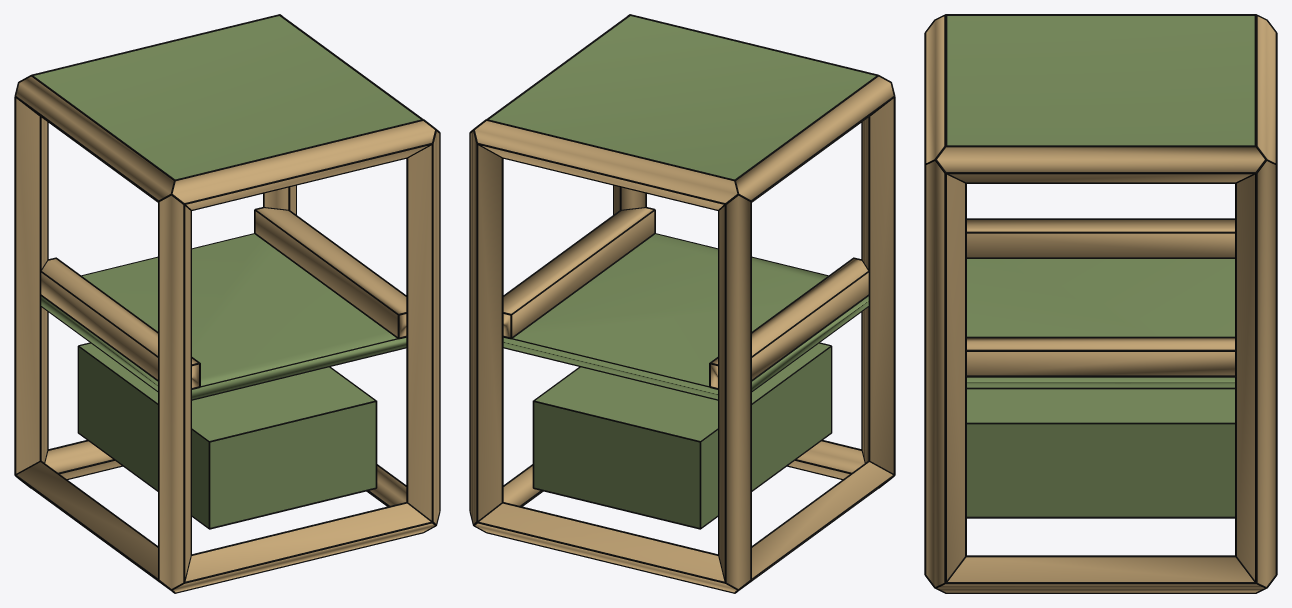
File: 002-table-chevet-moyenne.glb
3 renders of one model, left to right at view 1: azimuth 30°, elevation 25°; view 2: azimuth 150°, elevation 25°; view 3: azimuth 270°, elevation 25°, orthographic. The views are drawn at different scales.
Parts seen in each view (by area): view 1: panneau-dessus_exterieur, mod-drawer-0, tablette-plate-mod-0, arete-Z0, arete-Z1, arete-Z2, arete-X2, arete-X0, tablette-traverse-right-mod-0, tablette-traverse-left-mod-0, arete-Y2, arete-Y0 (+15 smaller); view 2: panneau-dessus_exterieur, mod-drawer-0, tablette-plate-mod-0, arete-Z2, arete-Z3, arete-Z0, arete-X3, arete-X1, tablette-traverse-right-mod-0, tablette-traverse-left-mod-0, arete-Y2, arete-Y0 (+15 smaller); view 3: panneau-dessus_exterieur, mod-drawer-0, tablette-plate-mod-0, arete-Z1, arete-Z3, arete-Y3, arete-Y1, tablette-traverse-left-mod-0, tablette-traverse-right-mod-0, arete-wire-Z1, arete-wire-Z3, arete-X2 (+10 smaller).
Boxes of the visible parts, x1=… form: panneau-dessus_exterieur: x1=34, y1=16, x2=420, y2=179; mod-drawer-0: x1=79, y1=343, x2=375, y2=527; tablette-plate-mod-0: x1=41, y1=234, x2=406, y2=399; arete-Z0: x1=159, y1=195, x2=190, y2=588; arete-Z1: x1=408, y1=131, x2=439, y2=523; arete-Z2: x1=16, y1=98, x2=47, y2=473; arete-X2: x1=172, y1=121, x2=434, y2=209; arete-X0: x1=173, y1=503, x2=434, y2=592; tablette-traverse-right-mod-0: x1=255, y1=208, x2=406, y2=336; tablette-traverse-left-mod-0: x1=41, y1=259, x2=198, y2=387; arete-Y2: x1=16, y1=76, x2=173, y2=199; arete-Y0: x1=17, y1=462, x2=157, y2=577; panneau-dessus_exterieur: x1=489, y1=16, x2=875, y2=179; mod-drawer-0: x1=534, y1=343, x2=830, y2=527; tablette-plate-mod-0: x1=503, y1=234, x2=868, y2=399; arete-Z2: x1=719, y1=195, x2=750, y2=588; arete-Z3: x1=470, y1=131, x2=501, y2=523; arete-Z0: x1=862, y1=98, x2=893, y2=473; arete-X3: x1=475, y1=121, x2=737, y2=209; arete-X1: x1=475, y1=503, x2=736, y2=592; tablette-traverse-right-mod-0: x1=503, y1=208, x2=654, y2=336; tablette-traverse-left-mod-0: x1=711, y1=259, x2=868, y2=387; arete-Y2: x1=736, y1=76, x2=893, y2=199; arete-Y0: x1=752, y1=462, x2=892, y2=577; panneau-dessus_exterieur: x1=947, y1=16, x2=1254, y2=145; mod-drawer-0: x1=967, y1=389, x2=1234, y2=516; tablette-plate-mod-0: x1=967, y1=259, x2=1234, y2=387; arete-Z1: x1=926, y1=161, x2=964, y2=586; arete-Z3: x1=1237, y1=161, x2=1275, y2=586; arete-Y3: x1=937, y1=147, x2=1264, y2=182; arete-Y1: x1=937, y1=557, x2=1264, y2=592; tablette-traverse-left-mod-0: x1=967, y1=220, x2=1234, y2=257; tablette-traverse-right-mod-0: x1=967, y1=338, x2=1234, y2=375; arete-wire-Z1: x1=924, y1=159, x2=966, y2=583; arete-wire-Z3: x1=1235, y1=164, x2=1277, y2=583; arete-X2: x1=926, y1=16, x2=944, y2=162.
Bounding box in the file's own units: 0.3738 × 0.5238 × 0.3738.
